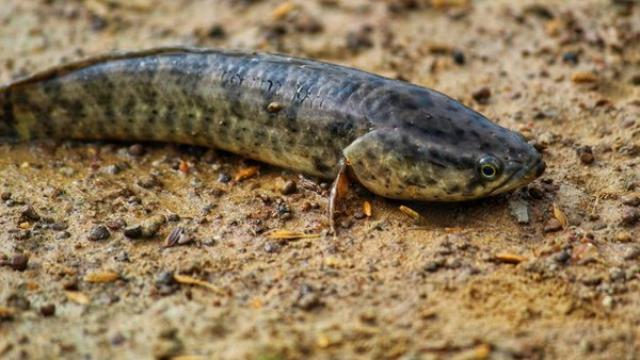Mulut: (464, 134, 576, 224)
Sirip Dada: (307, 136, 368, 242)
